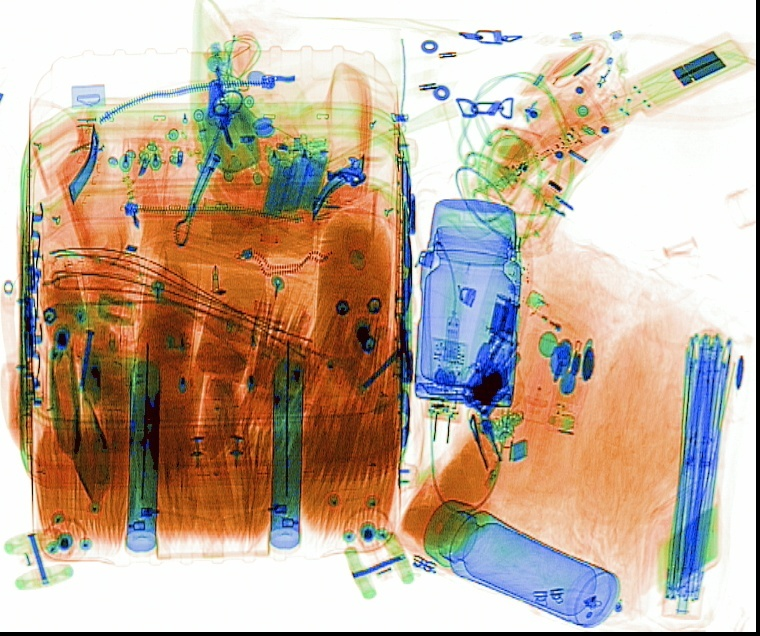powerbank: (261, 136, 332, 215)
